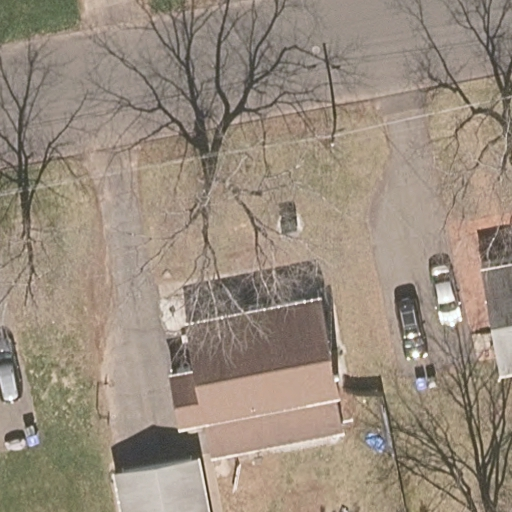DT: (328, 115, 339, 148)
